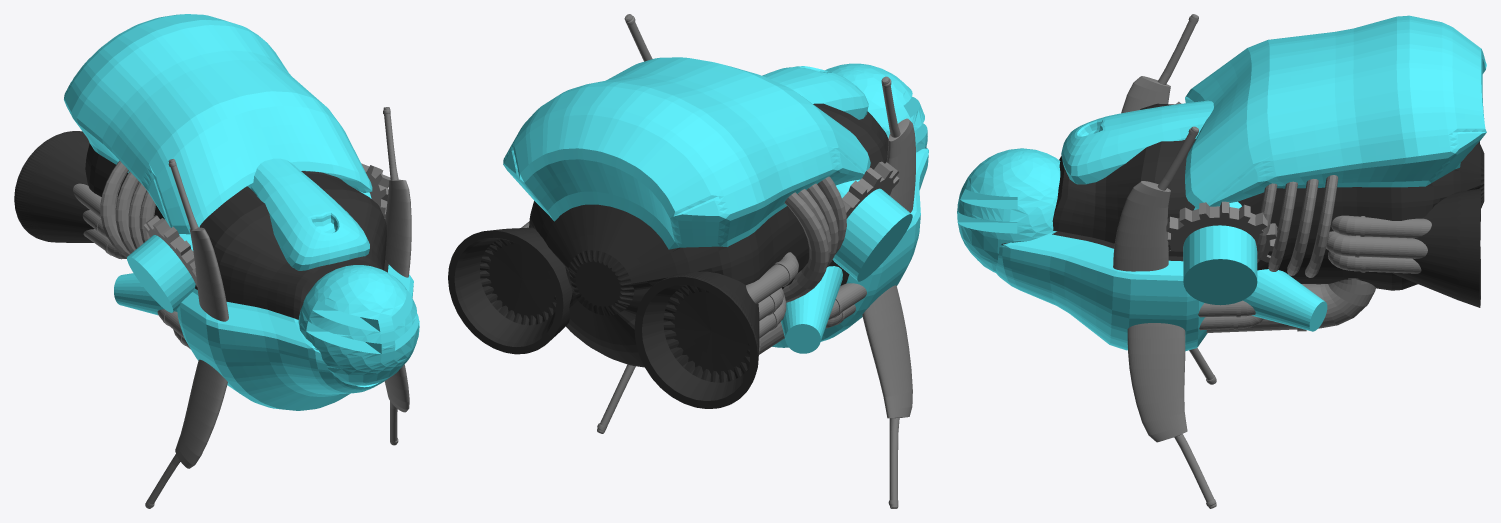
File: SmallShip_Core.fbx
3 views of the same model, side by side, from view 1: azimuth 30°, elevation 25°; view 2: azimuth 150°, elevation 25°; view 3: azimuth 270°, elevation 25° (orthographic). The views are drawn at different scales.
Parts seen in each view (by area): view 1: Cylinder, Cylinder.023, Head Evil, Suzanne, Cylinder.021, Cylinder.010, Cylinder.019, Cylinder.020, Torus.000, Cylinder.008, Circle.001, Cylinder.022 (+6 smaller); view 2: Cylinder, Cylinder.023, Cylinder.021, Cylinder.010, Head Evil, Cylinder.008, Suzanne, Cylinder.020, Torus.000, Circle.001, Cylinder.006, Torus.003 (+4 smaller); view 3: Cylinder, Cylinder.023, Head Evil, Cylinder.022, Suzanne, Cylinder.009, Cylinder.019, Cylinder.007, Circle, Cylinder.017, Cylinder.001, Cylinder.020 (+8 smaller).
Part boxes in pixels (x1=…): Cylinder: x1=64, y1=14, x2=419, y2=410; Cylinder.023: x1=14, y1=131, x2=388, y2=319; Head Evil: x1=298, y1=265, x2=418, y2=385; Suzanne: x1=247, y1=158, x2=369, y2=270; Cylinder.021: x1=145, y1=359, x2=227, y2=508; Cylinder.010: x1=127, y1=226, x2=199, y2=312; Cylinder.019: x1=383, y1=107, x2=411, y2=277; Cylinder.020: x1=168, y1=159, x2=228, y2=321; Torus.000: x1=100, y1=160, x2=130, y2=257; Cylinder.008: x1=114, y1=273, x2=177, y2=315; Circle.001: x1=143, y1=215, x2=197, y2=286; Cylinder.022: x1=384, y1=364, x2=409, y2=445; Cylinder: x1=503, y1=57, x2=928, y2=347; Cylinder.023: x1=448, y1=103, x2=926, y2=408; Cylinder.021: x1=862, y1=285, x2=912, y2=508; Cylinder.010: x1=832, y1=179, x2=912, y2=281; Head Evil: x1=825, y1=63, x2=927, y2=152; Cylinder.008: x1=781, y1=266, x2=842, y2=353; Suzanne: x1=762, y1=66, x2=868, y2=119; Cylinder.020: x1=881, y1=76, x2=915, y2=212; Torus.000: x1=782, y1=192, x2=828, y2=302; Circle.001: x1=842, y1=161, x2=899, y2=218; Cylinder.006: x1=746, y1=252, x2=798, y2=303; Torus.003: x1=817, y1=176, x2=846, y2=254; Cylinder: x1=996, y1=15, x2=1486, y2=351; Cylinder.023: x1=1001, y1=103, x2=1484, y2=307; Head Evil: x1=957, y1=148, x2=1060, y2=272; Cylinder.022: x1=1127, y1=323, x2=1216, y2=508; Suzanne: x1=1061, y1=100, x2=1213, y2=184; Cylinder.009: x1=1183, y1=201, x2=1257, y2=305; Cylinder.019: x1=1113, y1=126, x2=1198, y2=271; Cylinder.007: x1=1243, y1=269, x2=1327, y2=331; Circle: x1=1166, y1=201, x2=1277, y2=262; Cylinder.017: x1=1206, y1=278, x2=1375, y2=332; Cylinder.001: x1=1326, y1=231, x2=1427, y2=258; Cylinder.020: x1=1121, y1=14, x2=1198, y2=113.
Bounding box in the file's own units: 216 × 296 × 342.
